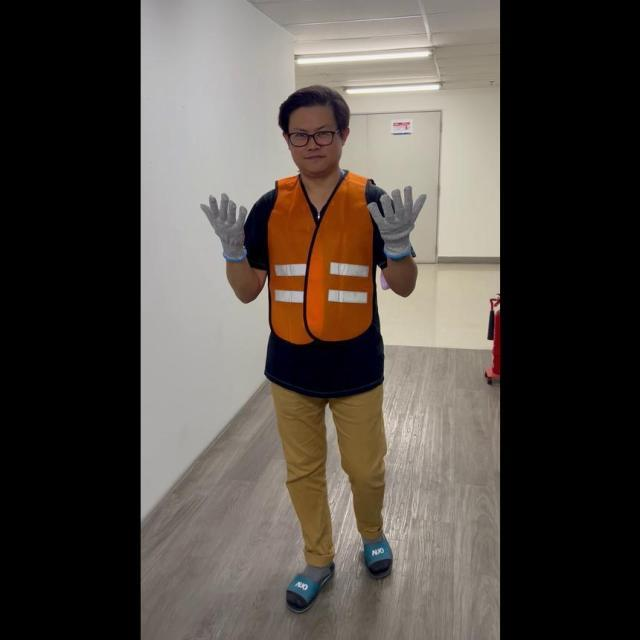gloved_hand: (365, 180, 426, 257), (199, 188, 251, 260)
